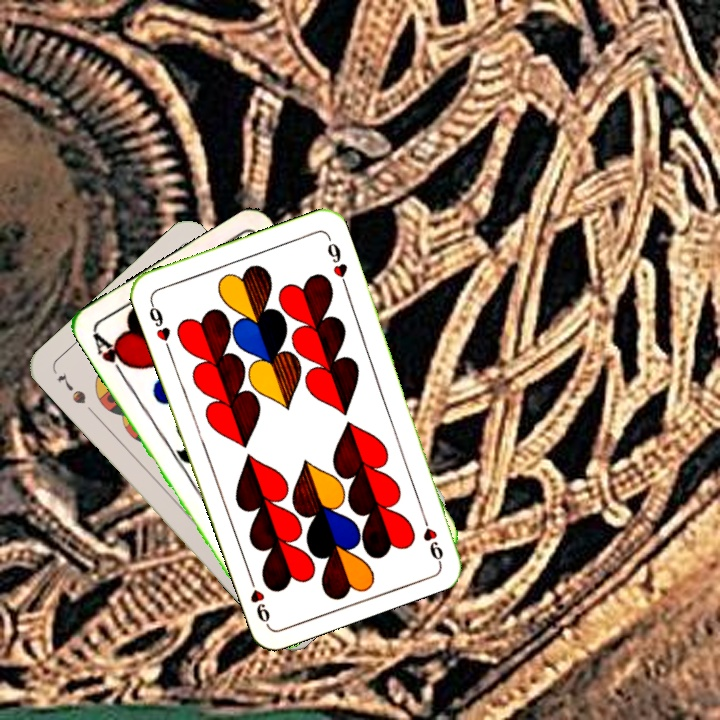H9: (417, 506, 446, 564), (145, 296, 173, 353)
HA: (88, 328, 134, 381)
S7: (53, 370, 89, 407)
